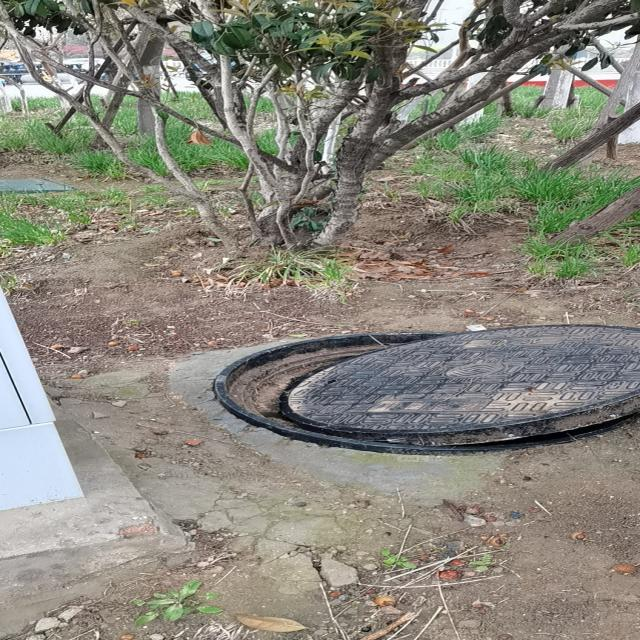Lose: (211, 323, 638, 455)
